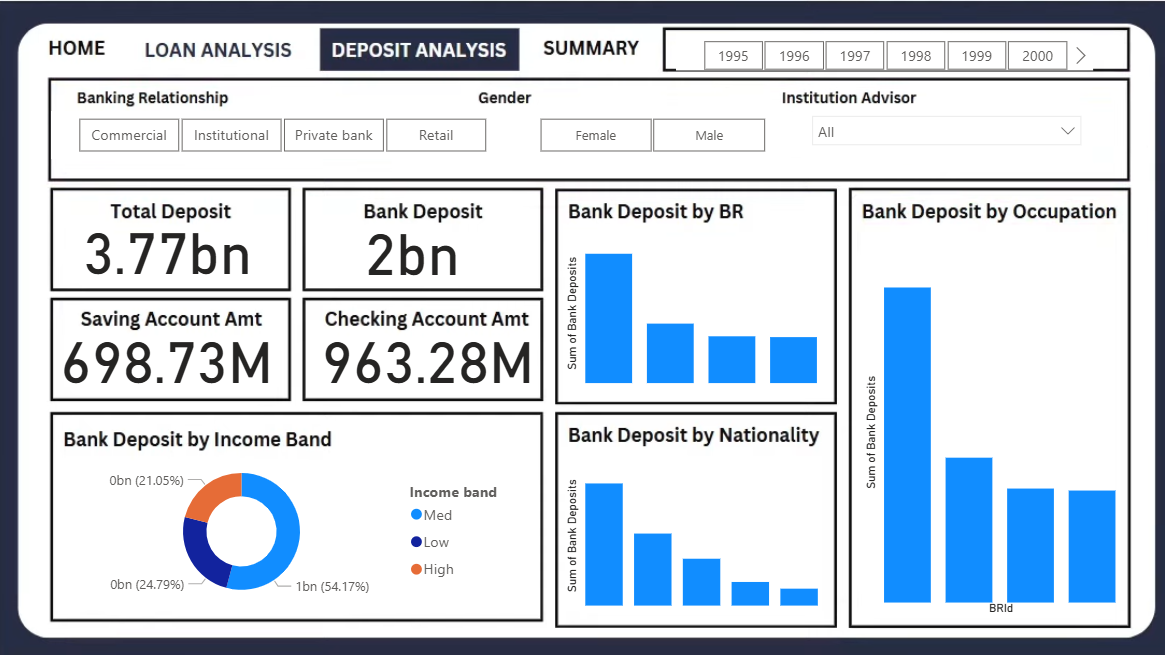

This screenshot's page, from the dashboard's own definition file:
{"tool":"powerbi","page":{"name":"Deposit analysis","canvas":[1280,720],"ordinal":2},"visuals":[{"type":"card","fields":{"Values":["Sum(Banking (1).Total Deposit)"]},"box":[160.5,247.7,184.9,64],"z":0},{"type":"card","fields":{"Values":["Sum(Banking (1).Saving Accounts)"]},"box":[144.2,348.8,215.1,64],"z":1000},{"type":"card","fields":{"Values":["Sum(Banking (1).Checking Accounts)"]},"box":[388.4,348.8,212.8,64],"z":2000},{"type":"card","fields":{"Values":["Sum(Banking (1).Bank Deposits)"]},"box":[388.9,247.8,184.4,64.4],"z":3000},{"type":"donutChart","fields":{"Category":["Banking (1).Custom"],"Y":["Sum(Banking (1).Bank Deposits)"]},"box":[160,470,422.2,150],"z":4000},{"type":"columnChart","fields":{"Category":["Banking (1).BRId"],"Y":["Sum(Banking (1).Bank Deposits)"]},"box":[618.9,263.3,245.6,150],"z":5000},{"type":"columnChart","fields":{"Category":["Banking (1).Nationality"],"Y":["Sum(Banking (1).Bank Deposits)"]},"box":[618.9,470,245.6,150],"z":6000},{"type":"columnChart","fields":{"Y":["Sum(Banking (1).Bank Deposits)"],"Category":["Banking (1).BRId"]},"box":[896.5,280.2,245.3,346.5],"z":7000},{"type":"slicer","fields":{"Values":["Banking (1).BRId"]},"box":[144.4,153.3,428.9,44.4],"z":8000},{"type":"slicer","fields":{"Values":["Banking (1).IAId"]},"box":[842.2,147.8,271.1,55.6],"z":9000},{"type":"slicer","fields":{"Values":["Banking (1).GenderId"]},"box":[573.3,153.3,258.9,44.4],"z":10000},{"type":"textbox","box":[170,131.1,163.3,32.2],"z":11000},{"type":"textbox","box":[950,0,162.8,31.4],"z":12000},{"type":"textbox","box":[601.1,131.1,163.3,32.2],"z":13000},{"type":"slicer","fields":{"Values":["Banking (1).Joined Bank.Variation.Date Hierarchy.Year"]},"box":[725.6,81.1,387.8,34.4],"z":14000},{"type":"actionButton","box":[119.8,76.7,100,39.5],"z":14001},{"type":"actionButton","box":[211.6,76.7,167.4,39.5],"z":14002},{"type":"actionButton","box":[590,78.8,100,40],"z":14003}]}

Visuals, with their boxes in screenshot pixels (x1, y1, x2, y2), scaled from the page's 1280x720 canvas onto the 1165x655 screenshot:
card - Sum(Banking (1).Total Deposit): [146,225,314,284]
card - Sum(Banking (1).Saving Accounts): [131,317,327,376]
card - Sum(Banking (1).Checking Accounts): [354,317,547,376]
card - Sum(Banking (1).Bank Deposits): [354,225,522,284]
donutChart - Banking (1).Custom x Sum(Banking (1).Bank Deposits): [146,428,530,564]
columnChart - Banking (1).BRId x Sum(Banking (1).Bank Deposits): [563,240,787,376]
columnChart - Banking (1).Nationality x Sum(Banking (1).Bank Deposits): [563,428,787,564]
columnChart - Sum(Banking (1).Bank Deposits) x Banking (1).BRId: [816,255,1039,570]
slicer - Banking (1).BRId: [131,139,522,180]
slicer - Banking (1).IAId: [767,134,1013,185]
slicer - Banking (1).GenderId: [522,139,757,180]
textbox: [155,119,303,149]
textbox: [865,0,1013,29]
textbox: [547,119,696,149]
slicer - Banking (1).Joined Bank.Variation.Date Hierarchy.Year: [660,74,1013,105]
actionButton: [109,70,200,106]
actionButton: [193,70,345,106]
actionButton: [537,72,628,108]
